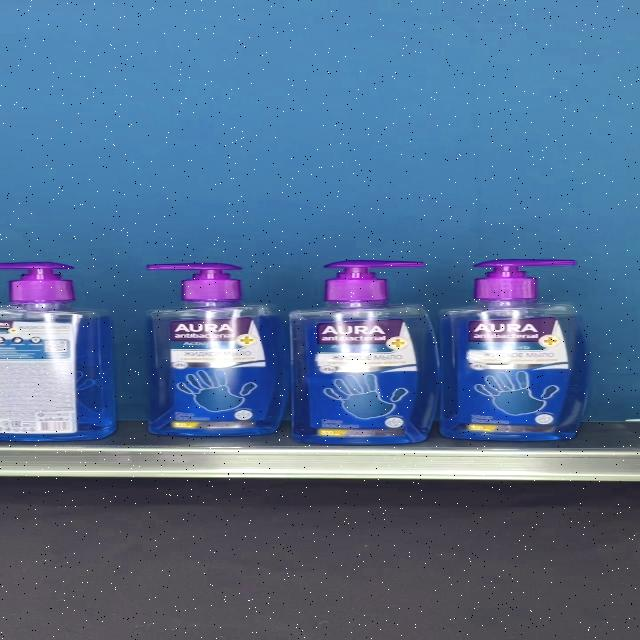Bottle: (290, 260, 440, 444), (440, 259, 587, 441), (147, 263, 291, 434), (0, 261, 117, 441)
Cap: (474, 259, 575, 303), (324, 260, 426, 302), (146, 263, 242, 301), (0, 261, 76, 301)
